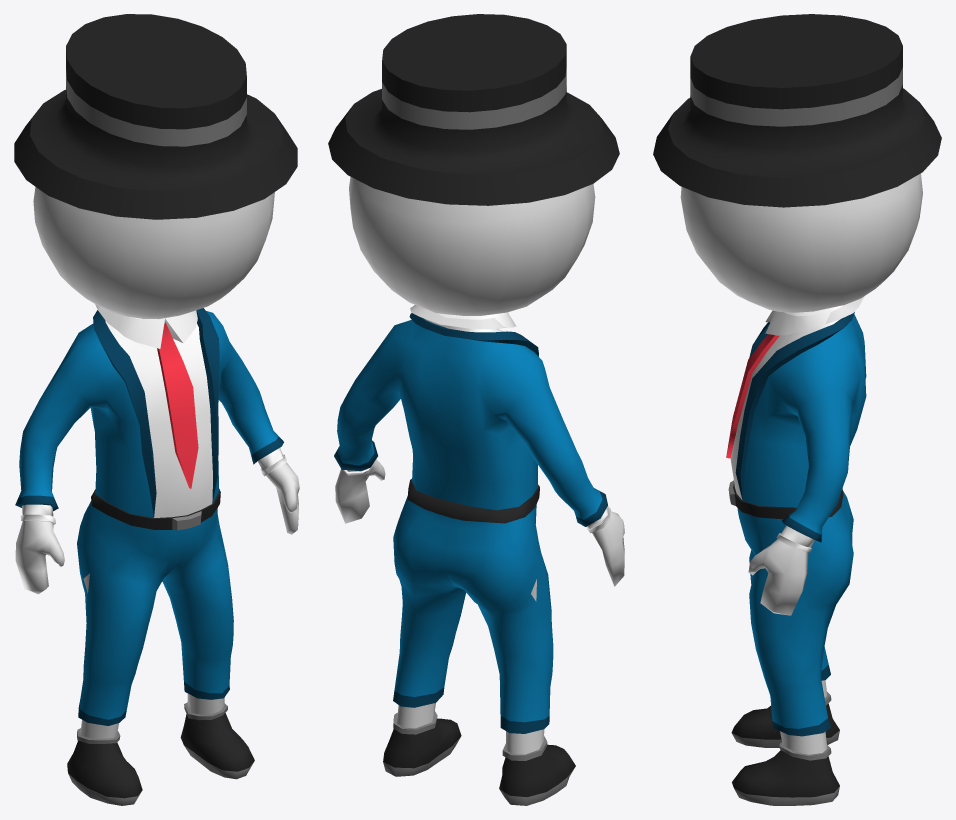
File: busynesman_A_pose.fbx
The picture shows the model from 3 angles, left to right: view 1: azimuth 30°, elevation 25°; view 2: azimuth 150°, elevation 25°; view 3: azimuth 270°, elevation 25°; orthographic projection. The views are drawn at different scales.
Visible parts, largest first — view 1: busynesman_A_pose; view 2: busynesman_A_pose; view 3: busynesman_A_pose.
Part boxes in pixels (x1,y1,x2,y2): busynesman_A_pose: (14, 14, 299, 805); busynesman_A_pose: (328, 14, 624, 805); busynesman_A_pose: (653, 14, 941, 805).
Size of the model in its own units: 78.34 by 195 by 70.7.
